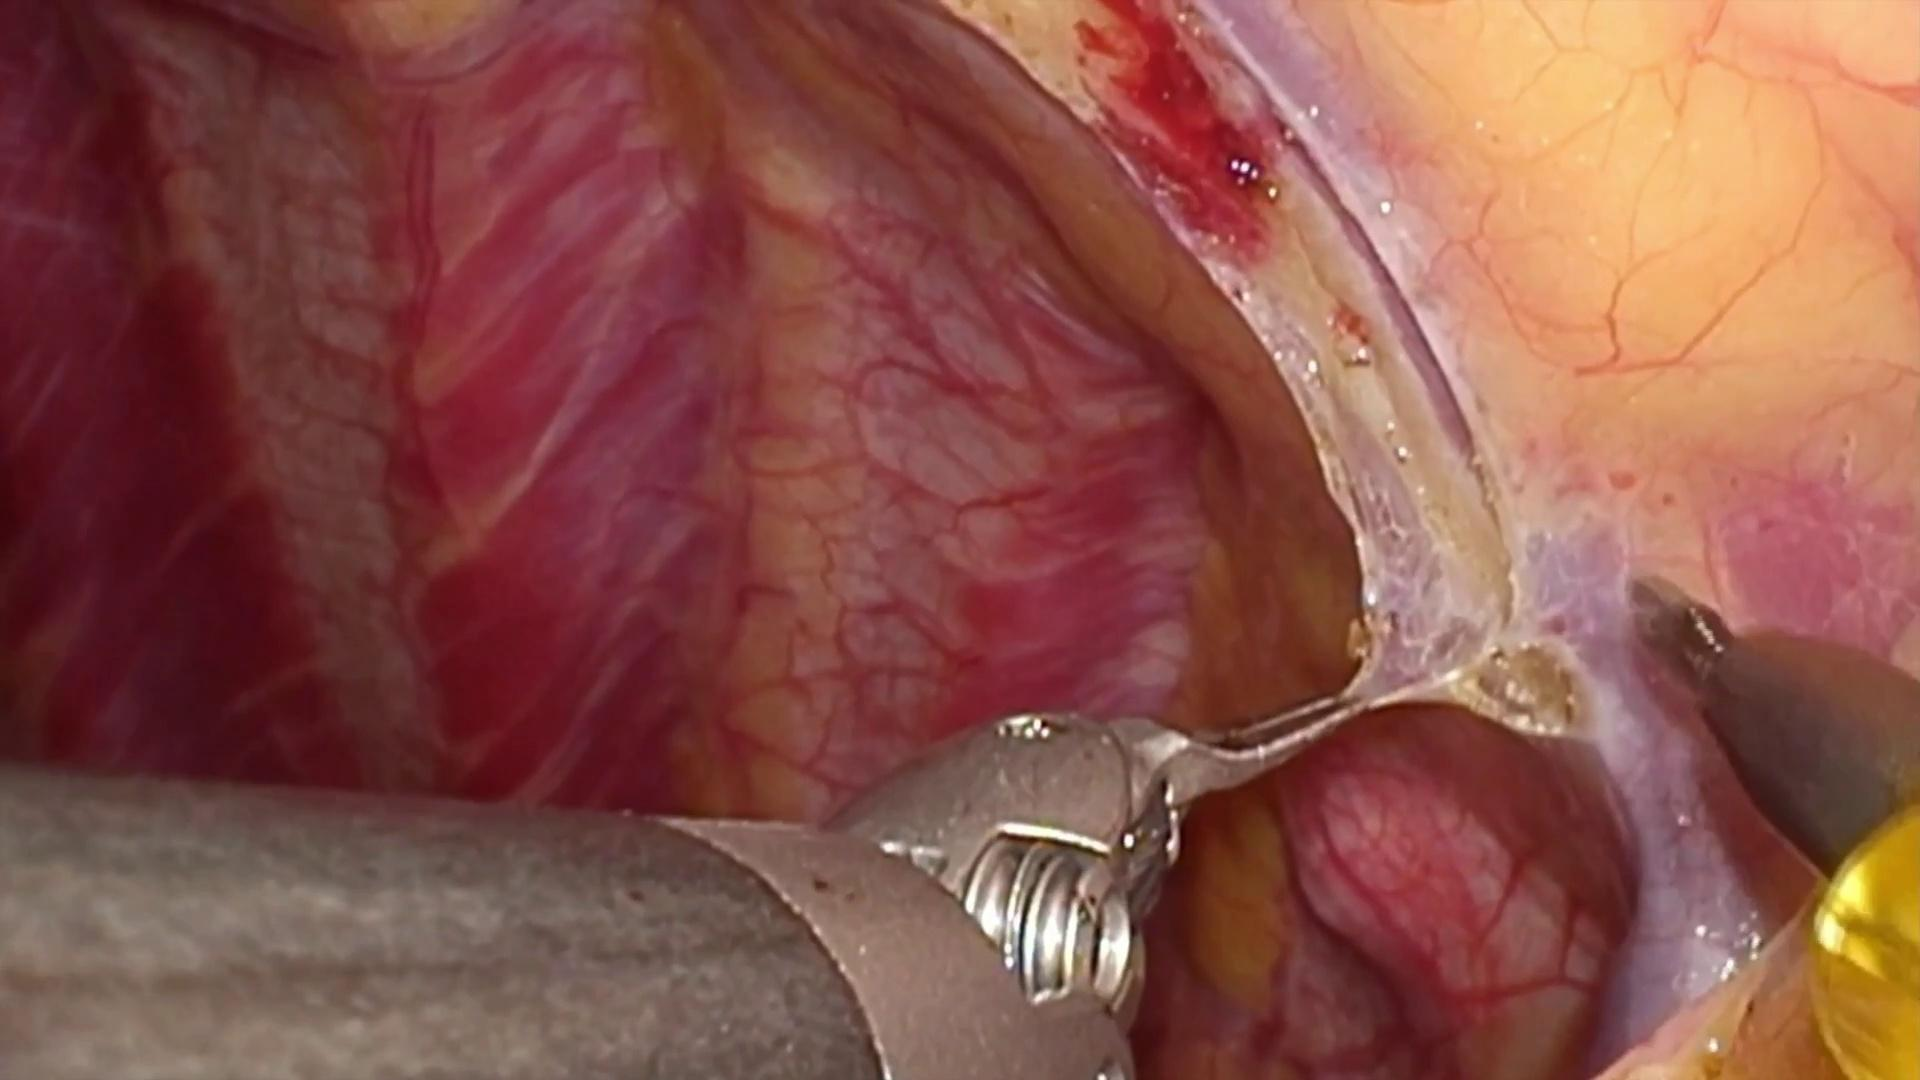Cautery_Spatula: (1619, 564, 1920, 880)
Debakey: (1120, 607, 1371, 894)
